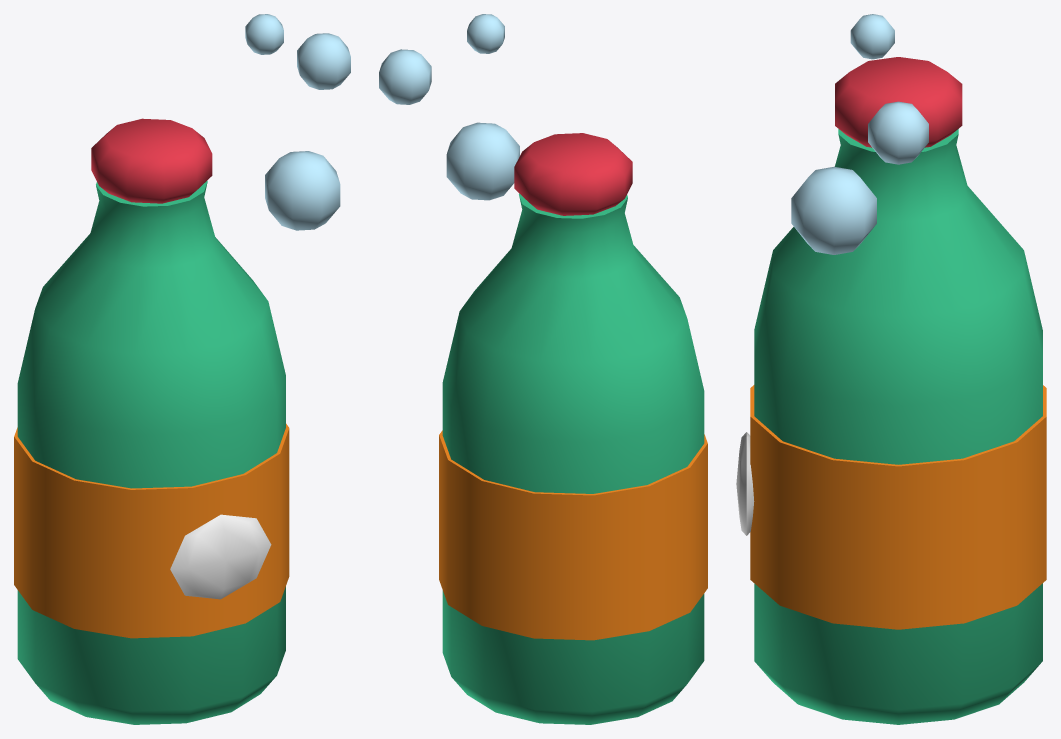
The model's file is P05_Soda.fbx.
3 views of the same model, side by side, from view 1: azimuth 30°, elevation 25°; view 2: azimuth 150°, elevation 25°; view 3: azimuth 270°, elevation 25° (orthographic). The views are drawn at different scales.
Parts seen in each view (by area): view 1: P05_Soda; view 2: P05_Soda; view 3: P05_Soda.
Part boxes in pixels (x1,y1,x2,y2): P05_Soda: [14, 14, 350, 724]; P05_Soda: [379, 14, 707, 724]; P05_Soda: [736, 14, 1046, 724].
Bounding box in the file's own units: 0.3118 × 0.608 × 0.241.
